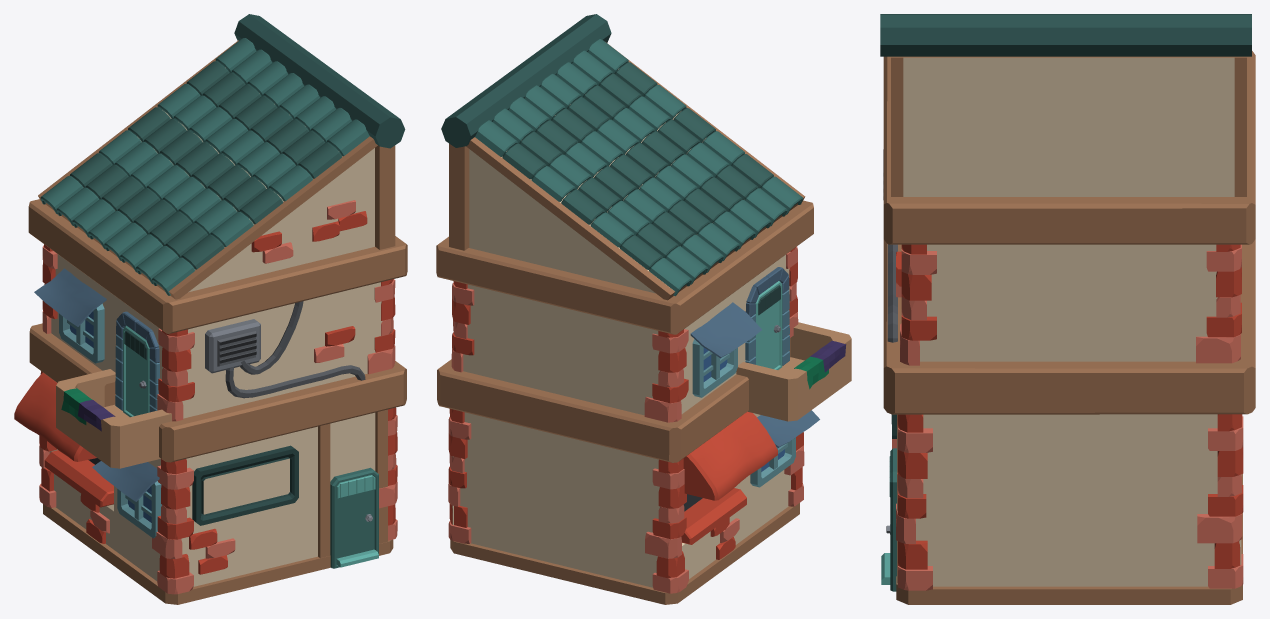
Rendered from house003.fbx.
3 renders of one model, left to right at view 1: azimuth 30°, elevation 25°; view 2: azimuth 150°, elevation 25°; view 3: azimuth 270°, elevation 25°, orthographic. The views are drawn at different scales.
Visible parts, largest first — view 1: pasted__polySurface6221; view 2: pasted__polySurface6221; view 3: pasted__polySurface6221.
Boxes of the visible parts, x1,y1,x2,y2 form: pasted__polySurface6221: (14,14,407,604); pasted__polySurface6221: (436,14,851,604); pasted__polySurface6221: (880,14,1255,604).
Bounding box in the file's own units: 695 × 1000 × 585.
